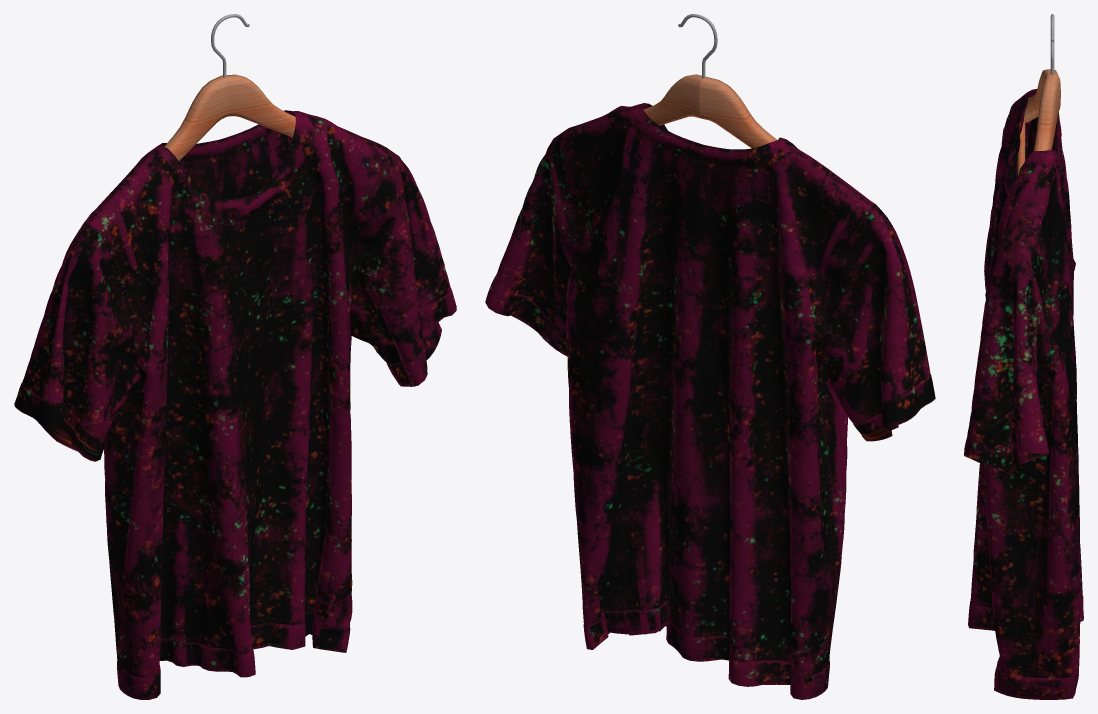
The model's file is check-shirt.glb.
3 views of the same model, side by side, from view 1: azimuth 30°, elevation 25°; view 2: azimuth 150°, elevation 25°; view 3: azimuth 270°, elevation 25° (orthographic). The views are drawn at different scales.
Visible parts, largest first — view 1: source_mesh_9, source_mesh_11; view 2: source_mesh_9, source_mesh_11; view 3: source_mesh_9, source_mesh_11, source_mesh_7.
Boxes of the visible parts, <box> form: source_mesh_9: <box>14,110,456,699</box>; source_mesh_11: <box>164,74,295,161</box>; source_mesh_9: <box>485,103,935,699</box>; source_mesh_11: <box>644,74,777,148</box>; source_mesh_9: <box>964,89,1083,699</box>; source_mesh_11: <box>1017,69,1060,176</box>; source_mesh_7: <box>1050,14,1054,74</box>.
Size of the model in its own units: 1.66 by 2.4 by 0.408.
3 materials, 2 textured.
